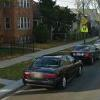Car: (18, 49, 87, 95)
